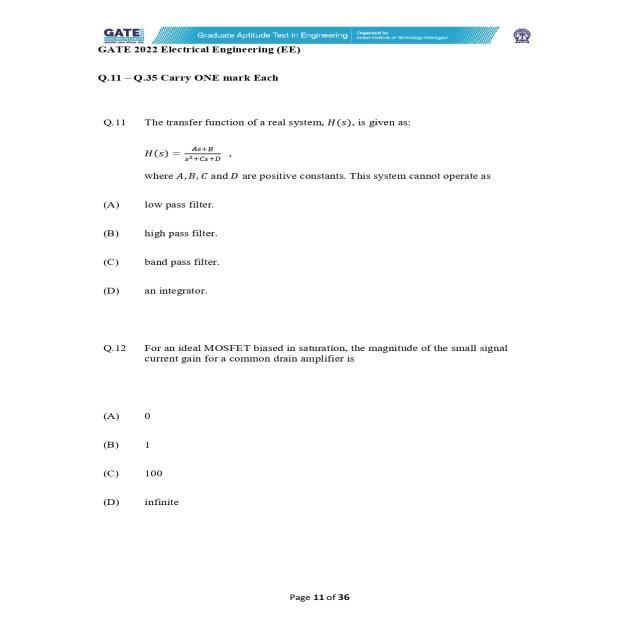Answer_Block: (92, 392, 524, 514), (89, 189, 517, 303)
Instruction: (92, 66, 518, 95)
Question_Answer_Block: (89, 116, 517, 302), (92, 332, 520, 513)
Question_Block: (89, 116, 515, 188), (89, 329, 518, 394)
Question_Paper_Area: (94, 69, 518, 516)
